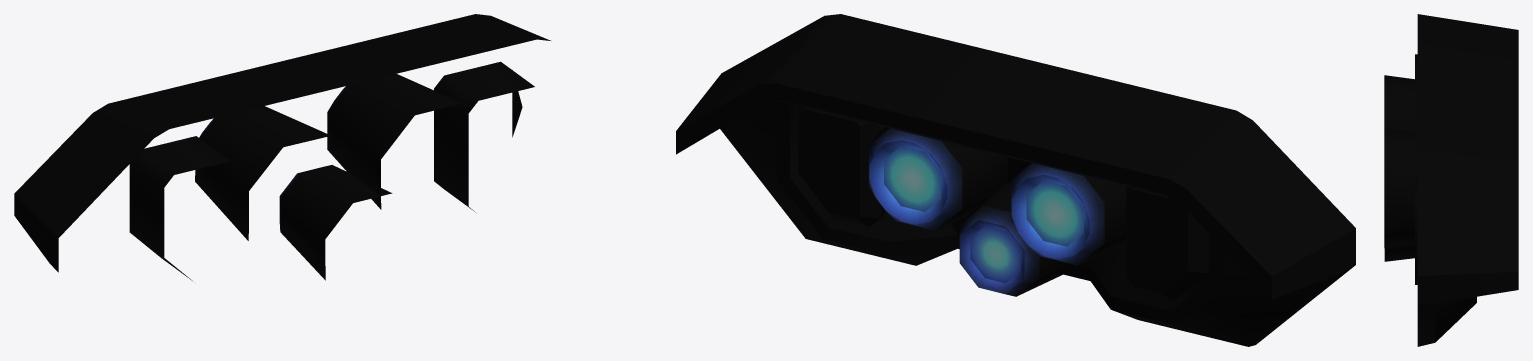
The model's file is engine_hgn_explorer_02_ion_01_t1.glb.
3 views of the same model, side by side, from view 1: azimuth 30°, elevation 25°; view 2: azimuth 150°, elevation 25°; view 3: azimuth 270°, elevation 25° (orthographic). The views are drawn at different scales.
Parts seen in each view (by area): view 1: explorer_02_engine_s_LOD0; view 2: explorer_02_engine_s_LOD0; view 3: explorer_02_engine_s_LOD0.
Boxes of the visible parts, x1,y1,x2,y2 form: explorer_02_engine_s_LOD0: (14, 14, 550, 280); explorer_02_engine_s_LOD0: (676, 14, 1355, 346); explorer_02_engine_s_LOD0: (1384, 14, 1518, 346).
Bounding box in the file's own units: 2.51 × 0.8698 × 0.6006.
Materials: 1 (1 with a texture image).
